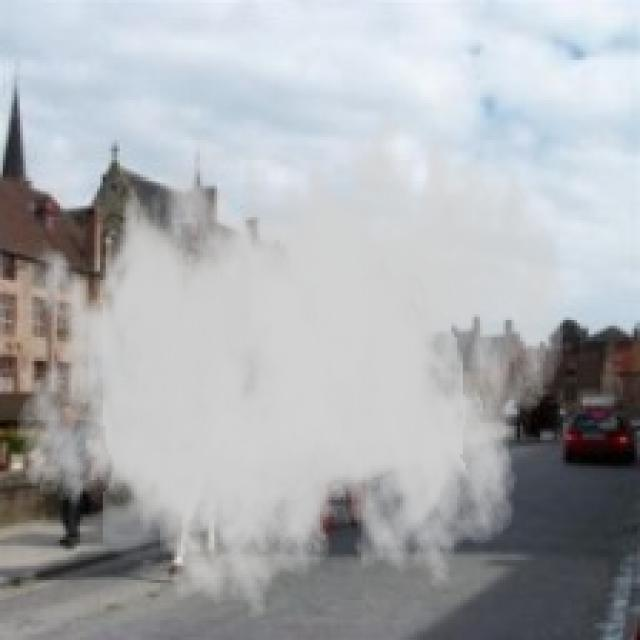smoke: (14, 74, 566, 629)
